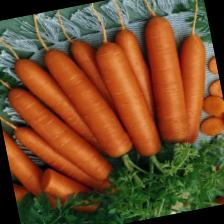carrot: (40, 36, 134, 168), (92, 34, 164, 162), (136, 13, 194, 145), (160, 31, 222, 146)
